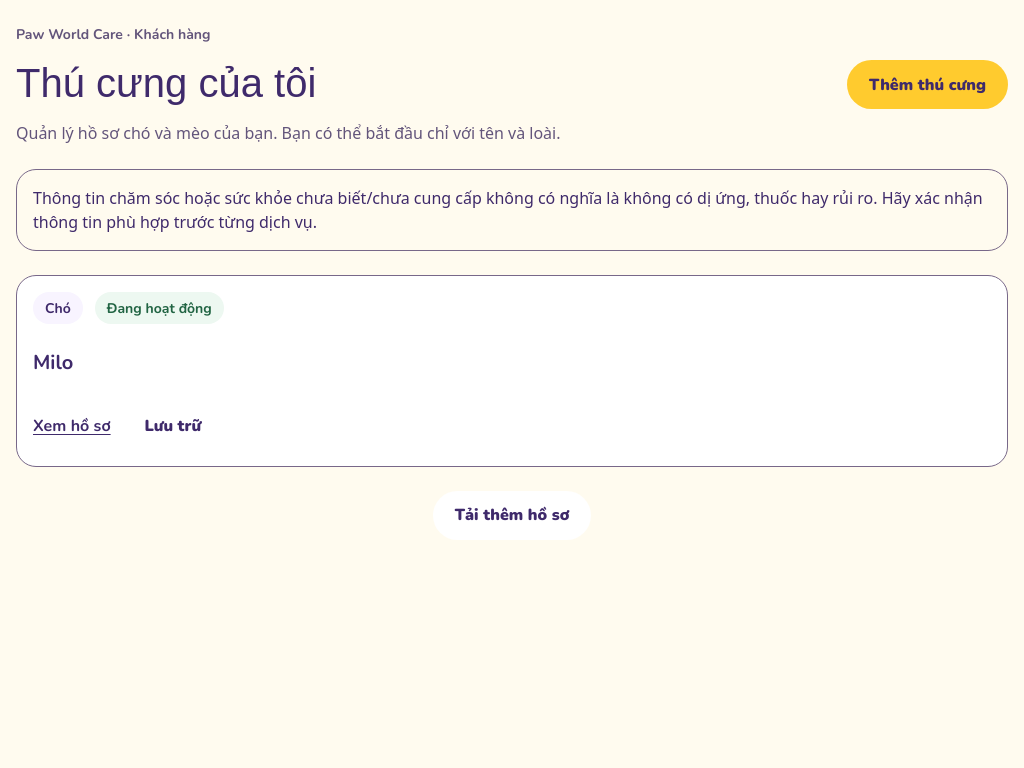
loads the next opaque cursor page without duplicating pet cards
Check: the heading "Milo" is shown, box [33, 349, 73, 376]
Step 1. Click the button "Tải thêm hồ sơ" → (512, 515), box [433, 491, 591, 540]
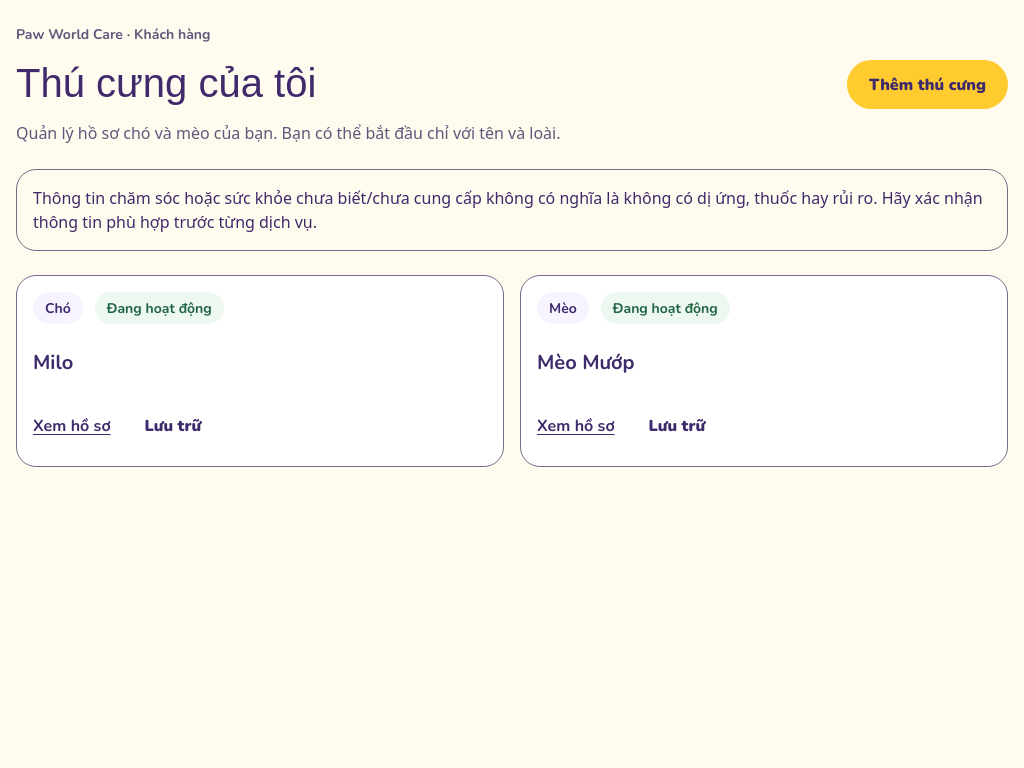
Check: the number of headings "Milo" is 1, box [33, 349, 73, 376]
Check: the heading "Mèo Mướp" is shown, box [537, 349, 635, 376]
